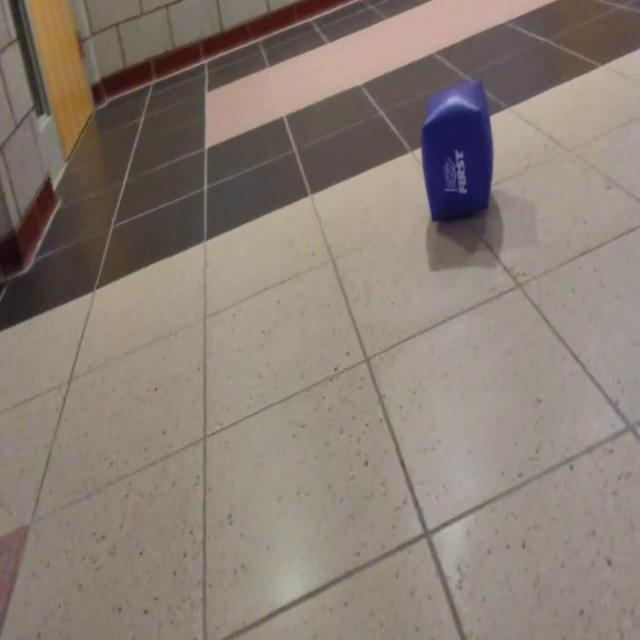frc_cube: (420, 80, 492, 222)
